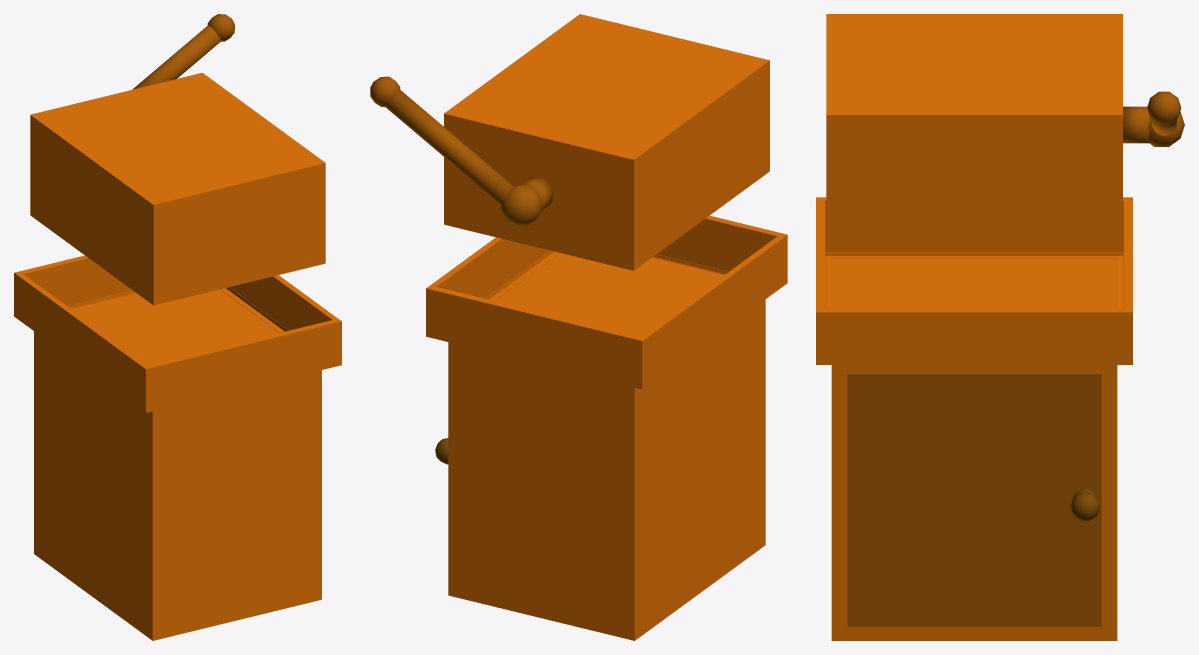
The model's file is Squeezer.fbx.
The picture shows the model from 3 angles, left to right: view 1: azimuth 30°, elevation 25°; view 2: azimuth 150°, elevation 25°; view 3: azimuth 270°, elevation 25°; orthographic projection. The views are drawn at different scales.
Parts seen in each view (by area): view 1: Cube, Cube.004, Cube.002, Cylinder.001; view 2: Cube, Cube.004, Cube.002, Cylinder.001; view 3: Cube.004, Cube.001, Cube, Cube.002, Cylinder.001, Icosphere.
Part boxes in pixels (bbox=[...]): Cube: bbox=[34, 289, 321, 640]; Cube.004: bbox=[30, 72, 325, 305]; Cube.002: bbox=[14, 255, 341, 412]; Cylinder.001: bbox=[132, 14, 234, 89]; Cube: bbox=[448, 253, 765, 640]; Cube.004: bbox=[444, 14, 769, 270]; Cube.002: bbox=[426, 215, 787, 389]; Cylinder.001: bbox=[370, 76, 553, 225]; Cube.004: bbox=[826, 14, 1122, 235]; Cube.001: bbox=[847, 373, 1101, 626]; Cube: bbox=[831, 258, 1117, 640]; Cube.002: bbox=[816, 197, 1132, 364]; Cylinder.001: bbox=[1123, 91, 1184, 146]; Icosphere: bbox=[1070, 489, 1099, 520].
Bounding box in the file's own units: 1111 × 2167 × 1269.
